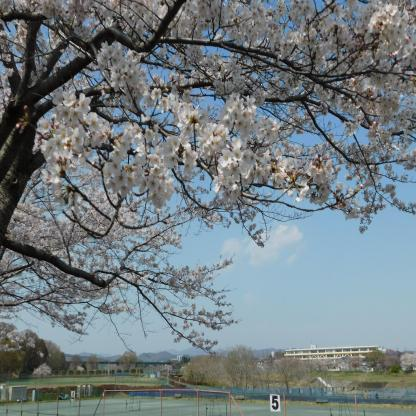Someiyoshino: (0, 1, 416, 346)
